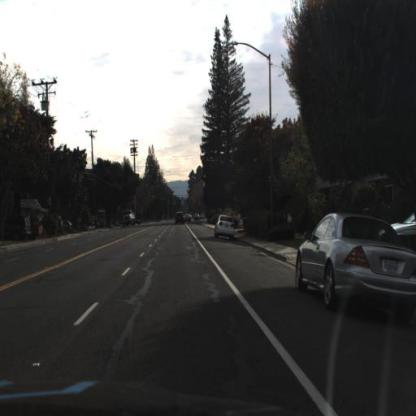car: (296, 213, 416, 312), (214, 214, 239, 238)
truck: (124, 209, 137, 225)
